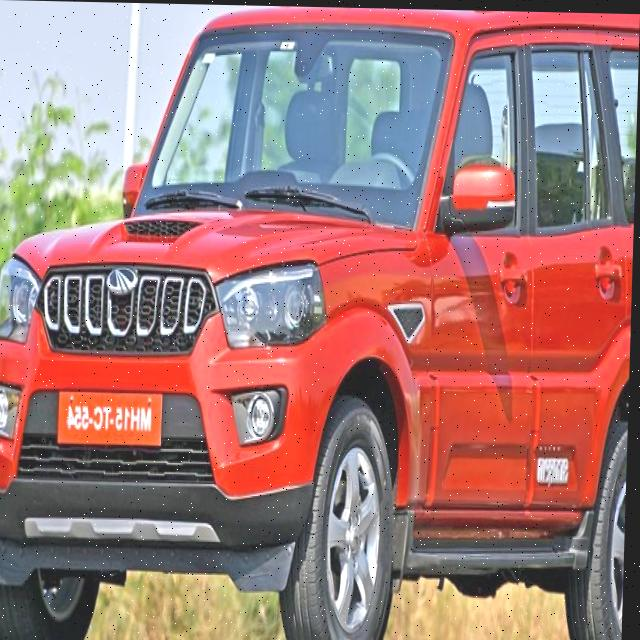plate: (60, 388, 167, 448)
